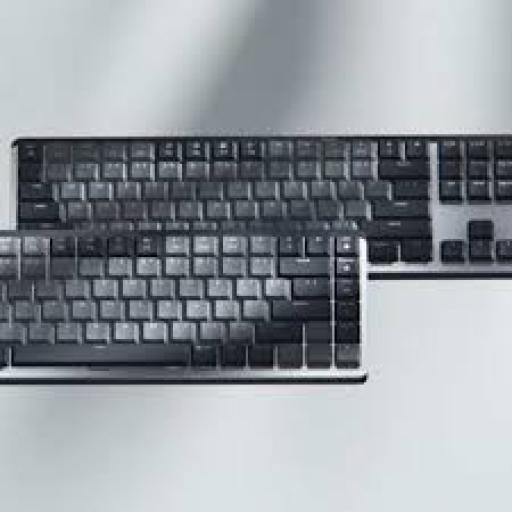KEYBOARD-2: (11, 134, 510, 273), (0, 228, 364, 380)
